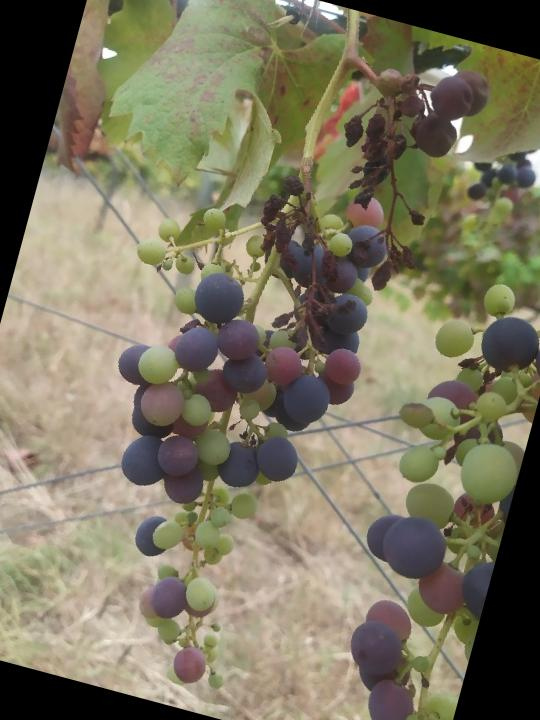grape: (32, 138, 407, 710), (312, 267, 540, 720), (303, 42, 496, 309)
